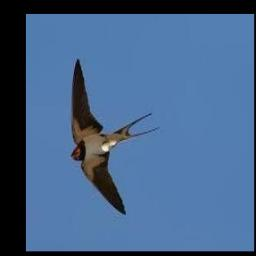Swallow: (69, 58, 159, 215)
